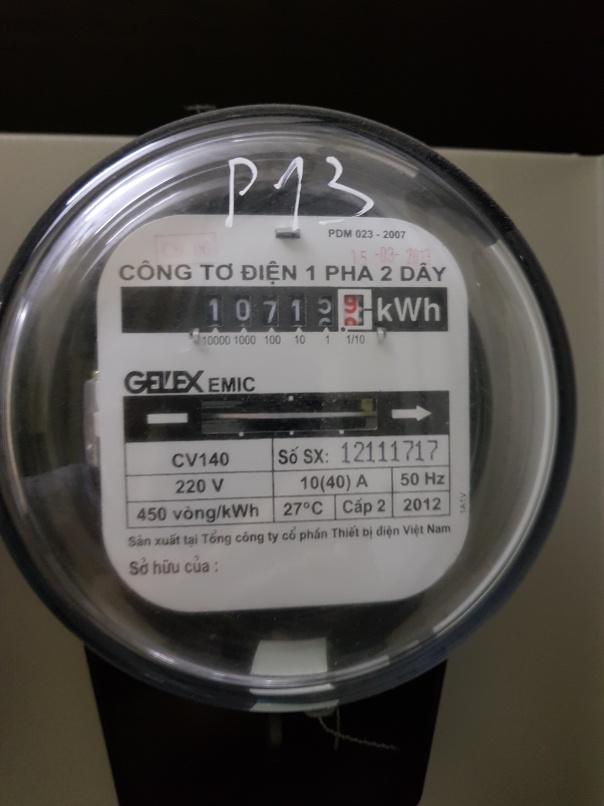counter: (122, 285, 449, 329)
electricity_meter: (5, 105, 580, 710)
